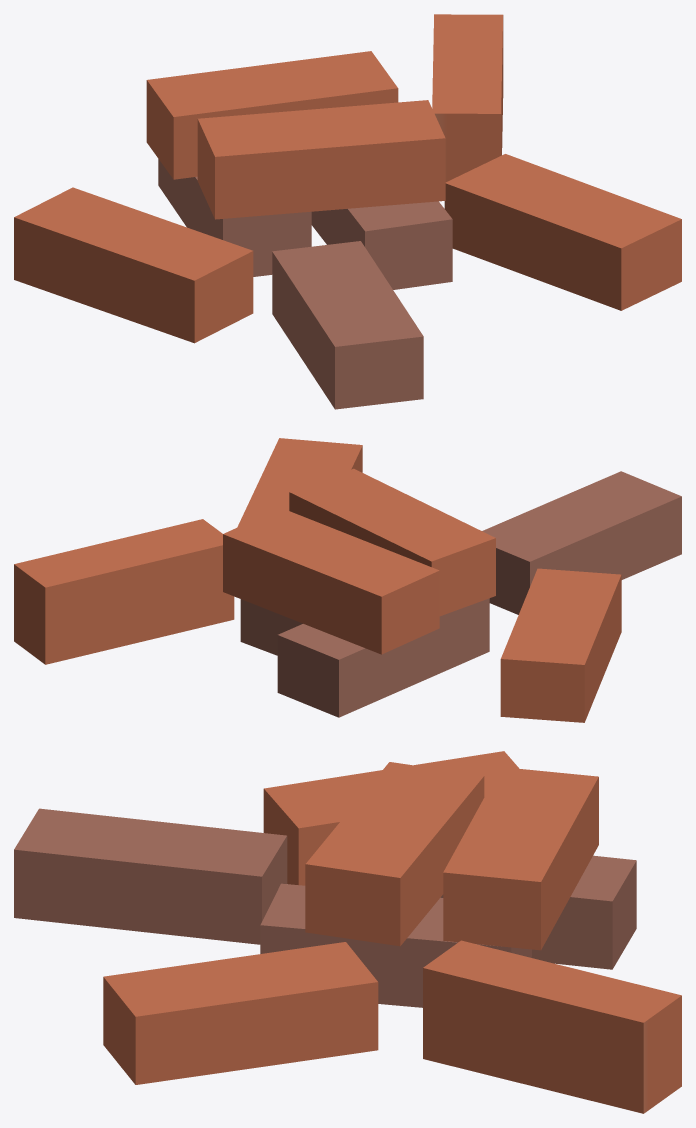
File: Brick_Pile_m_10 2.fbx
3 views of the same model, one above another, from view 1: azimuth 30°, elevation 25°; view 2: azimuth 150°, elevation 25°; view 3: azimuth 270°, elevation 25° (orthographic). The views are drawn at different scales.
Visible parts, largest first — view 1: Brick_Pile_m_10; view 2: Brick_Pile_m_10; view 3: Brick_Pile_m_10.
Part boxes in pixels (bbox=[...]): Brick_Pile_m_10: bbox=[14, 14, 681, 409]; Brick_Pile_m_10: bbox=[14, 438, 681, 722]; Brick_Pile_m_10: bbox=[14, 751, 681, 1113].
Bounding box in the file's own units: 69.36 × 15 × 66.48.
